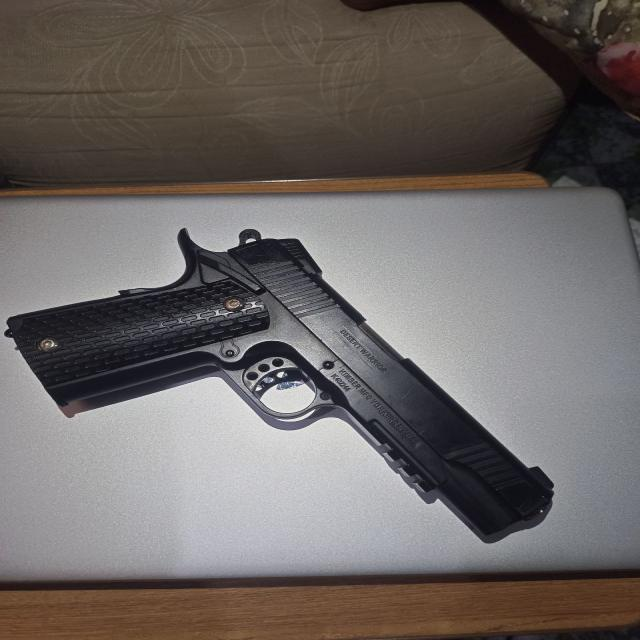pistol: (3, 228, 554, 536)
